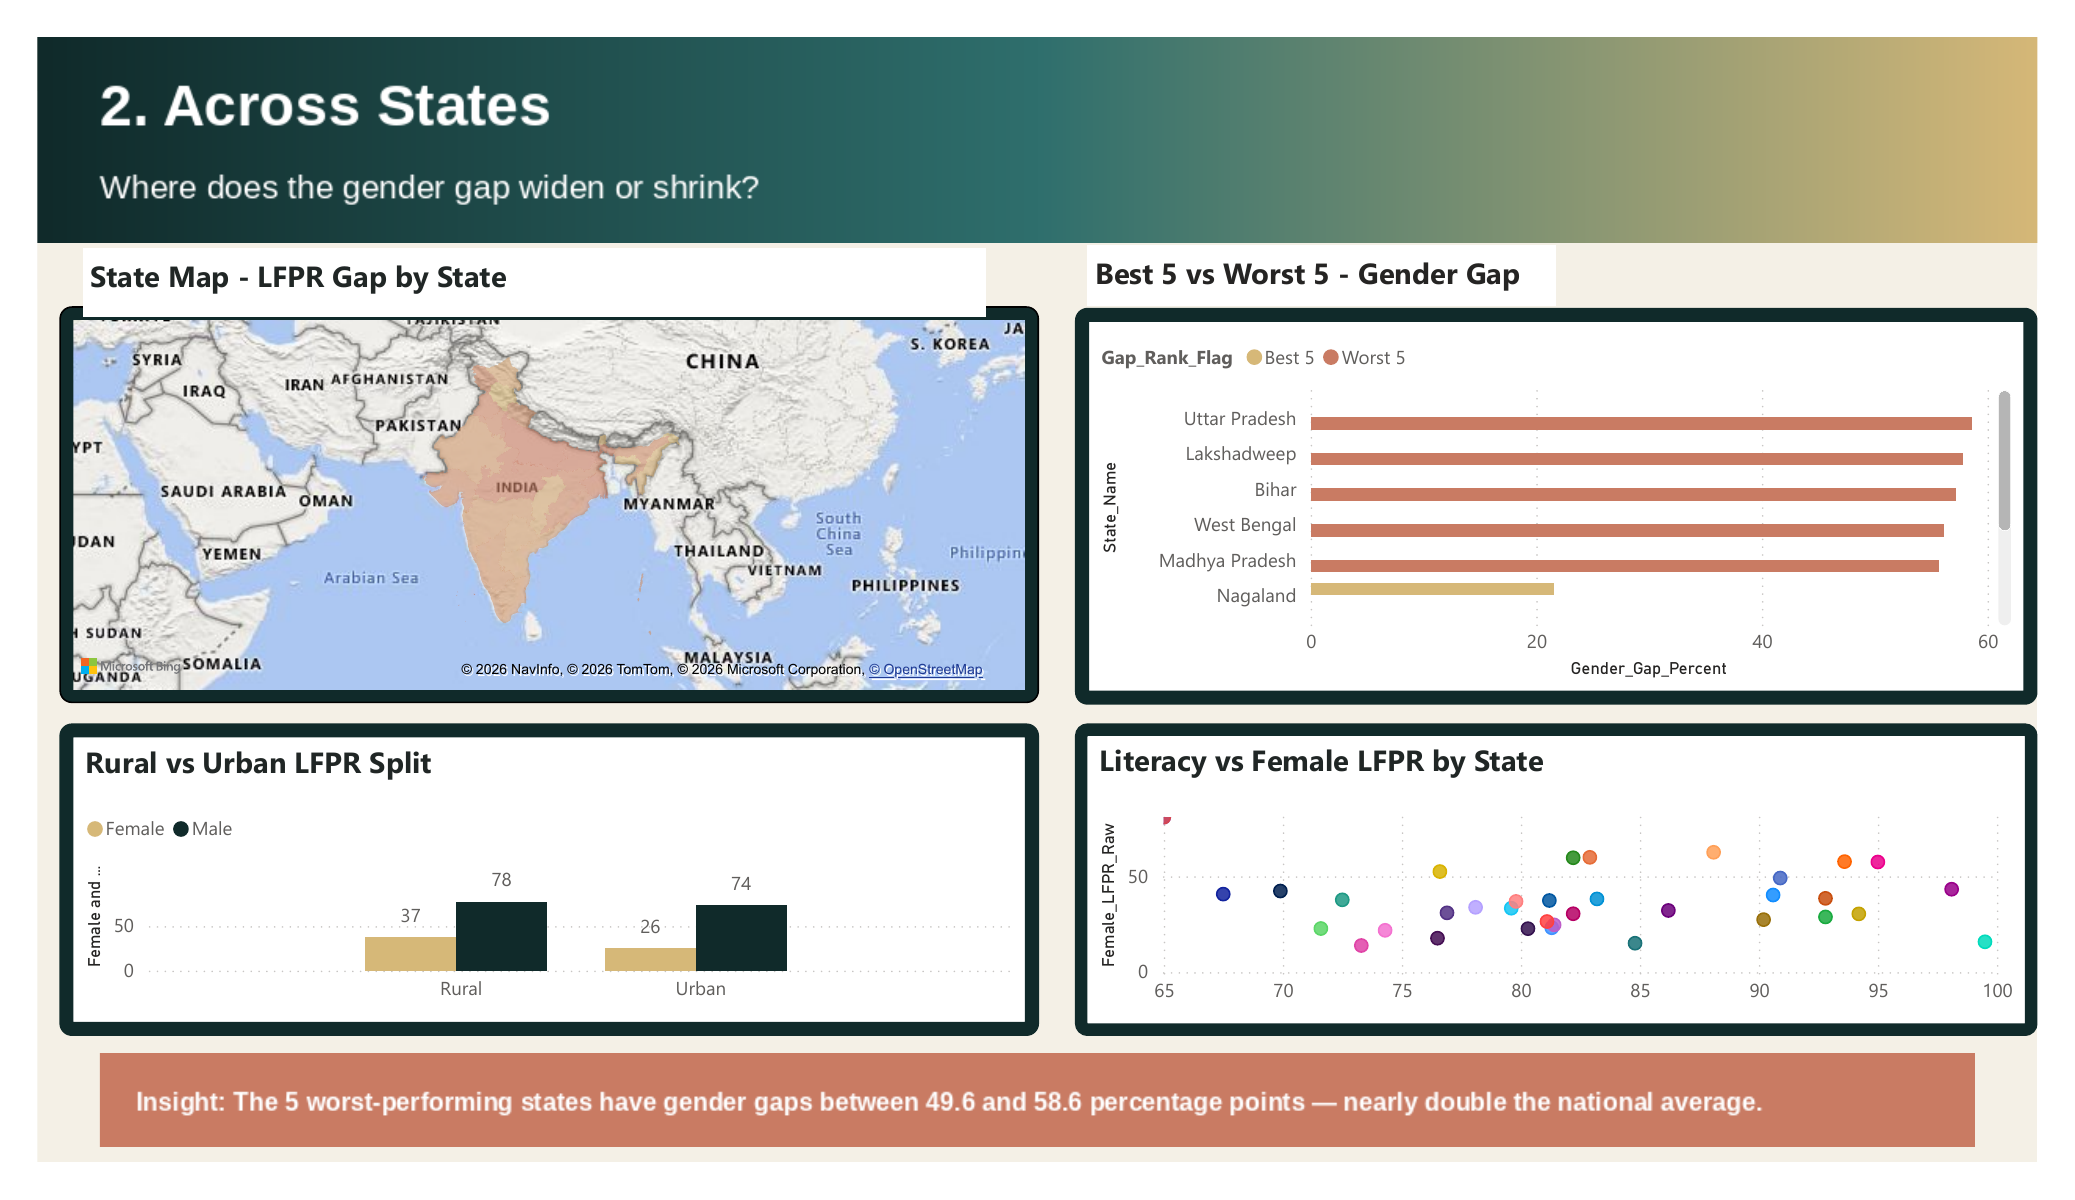

What the dashboard file says about the page in this screenshot:
{"tool":"powerbi","page":{"name":"2. Across States","canvas":[1280,720],"ordinal":2},"visuals":[{"type":"image","box":[0,0,1280,130.6],"z":0},{"type":"filledMap","fields":{"Category":["State_Lookup.State_Name"]},"box":[14.5,172.5,626.1,253.6],"z":1000},{"type":"textbox","box":[29.4,135.3,577.6,43.5],"z":2000},{"type":"clusteredBarChart","fields":{"Category":["State_Lookup.State_Name"],"Y":["_Measures.Gender_Gap_Percent"],"Series":["State_Lookup.Gap_Rank_Flag"]},"box":[664.2,172.9,616.1,253.9],"z":3000},{"type":"clusteredColumnChart","title":"Rural vs Urban LFPR Split","fields":{"Category":["PLFS_Main.Sector_Rural_Urban"],"Y":["_Measures.Female_LFPR_Raw","_Measures.Male_LFPR_Raw"]},"box":[14.5,439.1,626.1,200],"z":4000},{"type":"scatterChart","title":"Literacy vs Female LFPR by State","fields":{"Series":["State_Lookup.State_Name"],"X":["Literacy_Rates.2023-24"],"Y":["_Measures.Female_LFPR_Raw"]},"box":[663.8,439.1,615.9,200],"z":5000},{"type":"image","box":[40,650,1200,60],"z":6000},{"type":"textbox","box":[672,132.9,300,39],"z":7000}]}

Visuals, with their boxes in screenshot pixels (x1, y1, x2, y2):
image: 49,32,2022,234
filledMap - State_Lookup.State_Name: 71,298,1036,689
textbox: 94,241,985,308
clusteredBarChart - State_Lookup.State_Name x _Measures.Gender_Gap_Percent: 1073,299,2023,691
"Rural vs Urban LFPR Split" clusteredColumnChart: 71,710,1036,1018
"Literacy vs Female LFPR by State" scatterChart: 1072,710,2022,1018
image: 110,1035,1961,1127
textbox: 1085,237,1547,297
